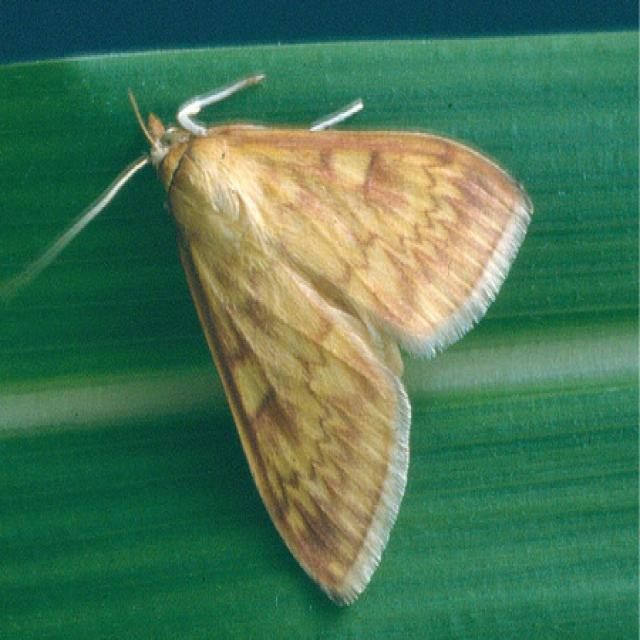cornborer-Adult-: (104, 53, 534, 614)
